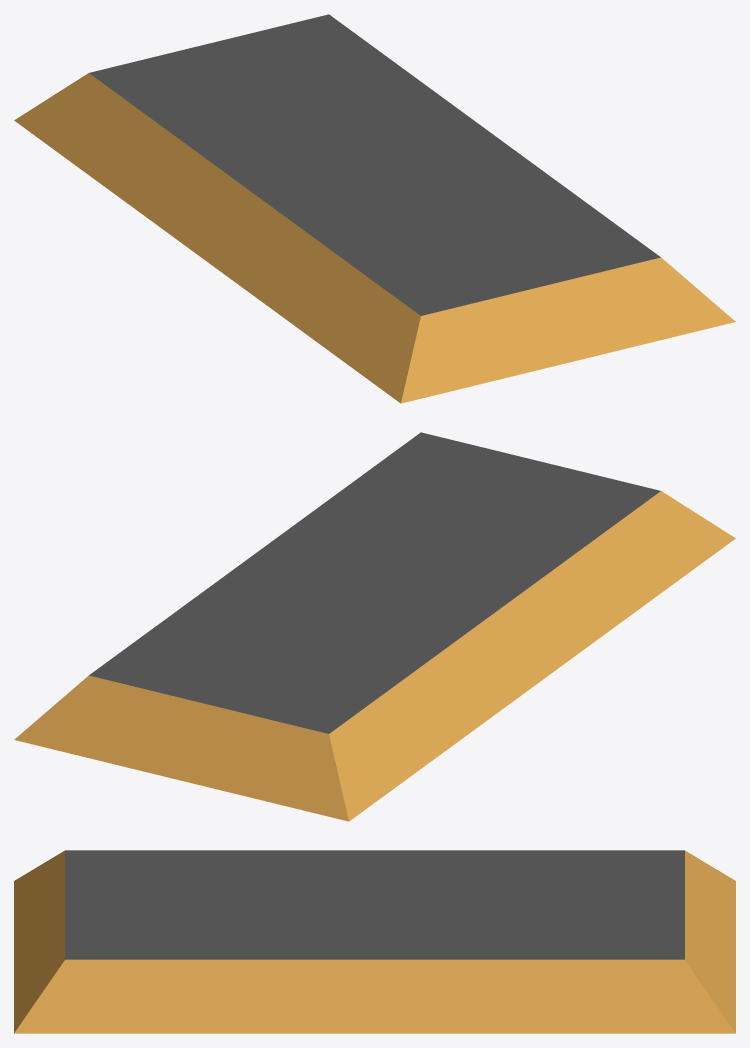
The model's file is Skate_Pill_Box_Double_01.FBX.
3 renders of one model, top to bottom at view 1: azimuth 30°, elevation 25°; view 2: azimuth 150°, elevation 25°; view 3: azimuth 270°, elevation 25°, orthographic. The views are drawn at different scales.
Parts seen in each view (by area): view 1: Skate_Pill_Box_Double_01; view 2: Skate_Pill_Box_Double_01; view 3: Skate_Pill_Box_Double_01.
Boxes of the visible parts, x1,y1,x2,y2 form: Skate_Pill_Box_Double_01: (14,14,735,403); Skate_Pill_Box_Double_01: (14,432,735,821); Skate_Pill_Box_Double_01: (14,850,735,1033).
Bounding box in the file's own units: 3 × 0.4789 × 6.
